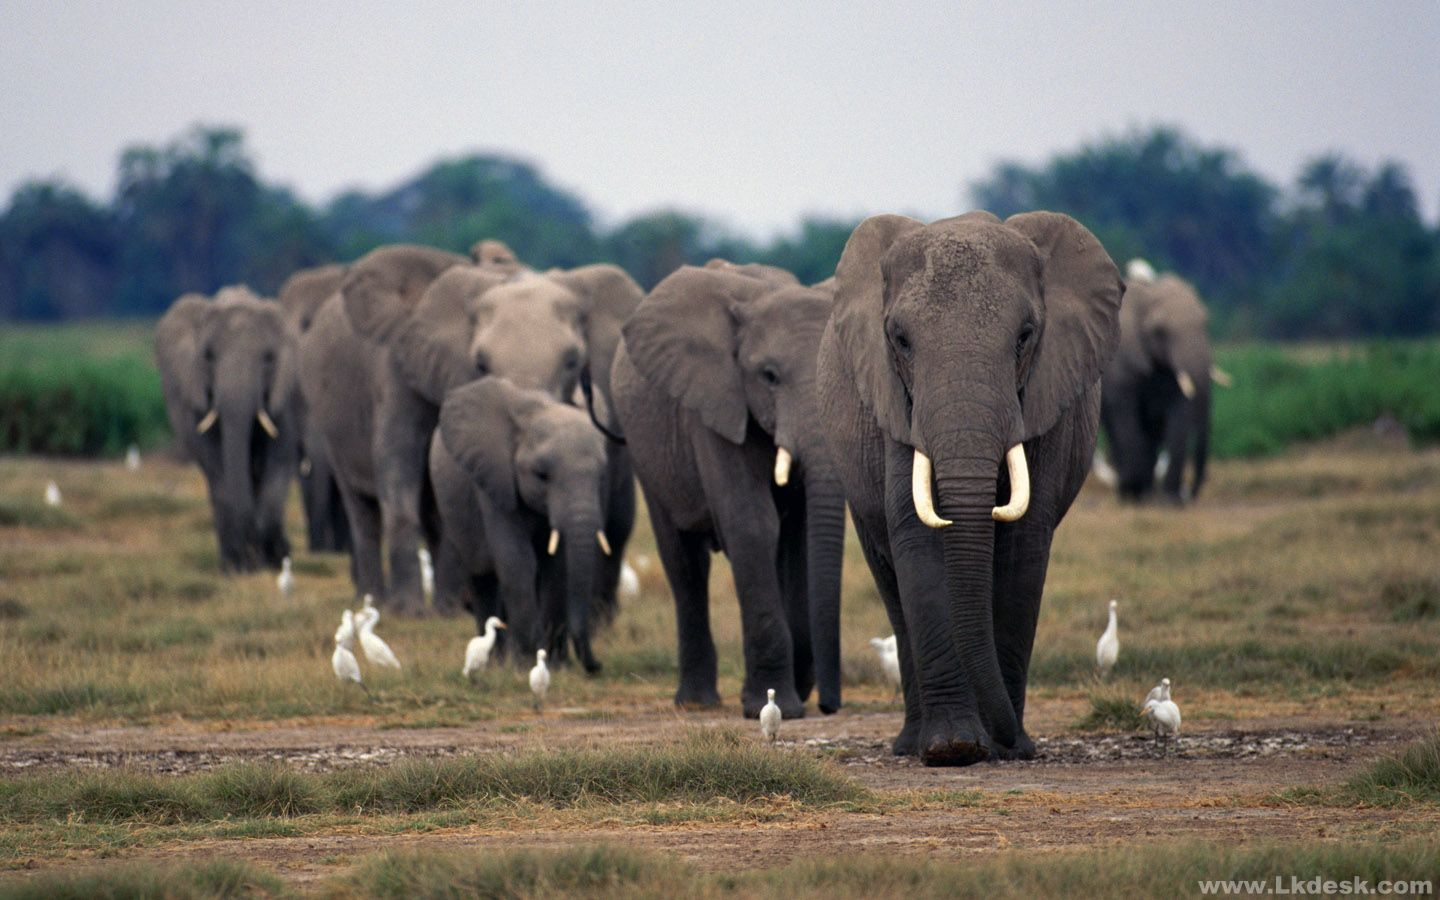africanelephant: (819, 225, 1127, 562), (484, 376, 610, 572)
